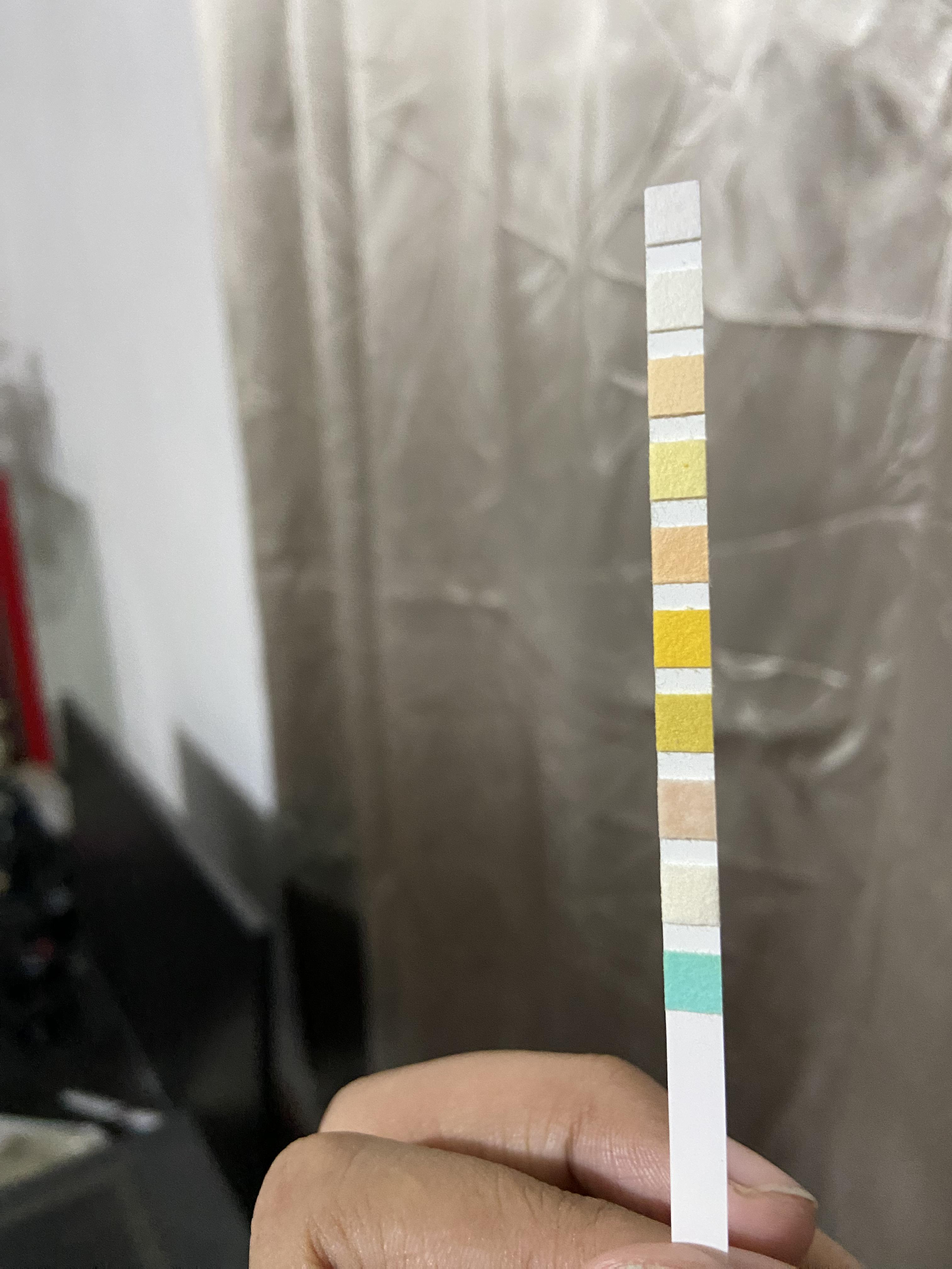Bilirubin: (664, 865, 718, 923)
Blood: (656, 611, 710, 667)
Glucose: (666, 953, 720, 1009)
Ketone: (660, 780, 717, 840)
Leukocytes: (647, 188, 699, 238)
Nitrite: (648, 274, 702, 326)
Protein: (651, 444, 706, 495)
SpGravity: (658, 696, 712, 750)
Urobilinogen: (650, 360, 703, 411)
pH: (654, 528, 707, 581)
strip: (645, 180, 729, 1240)
